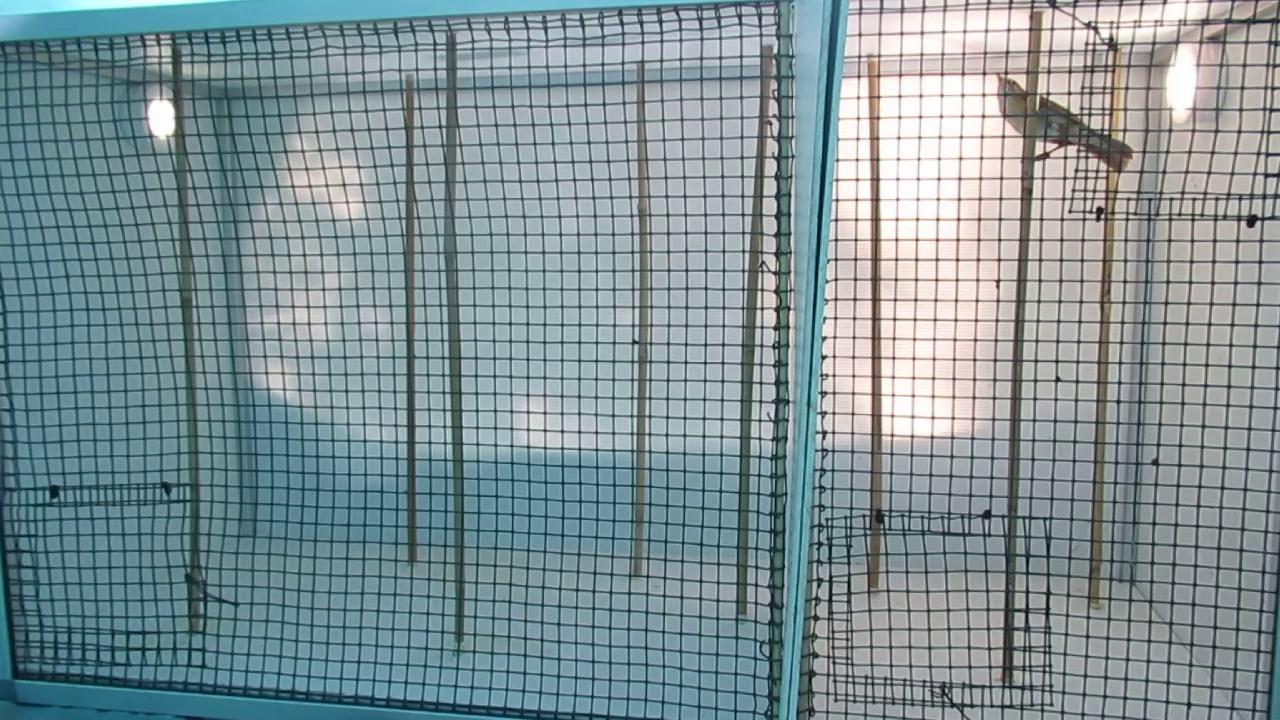bird: (996, 72, 1124, 177)
stick: (1002, 13, 1044, 684), (733, 46, 777, 617), (1089, 45, 1128, 605), (170, 49, 204, 630), (444, 36, 465, 642), (401, 78, 421, 564), (866, 59, 883, 588), (634, 62, 649, 577)
